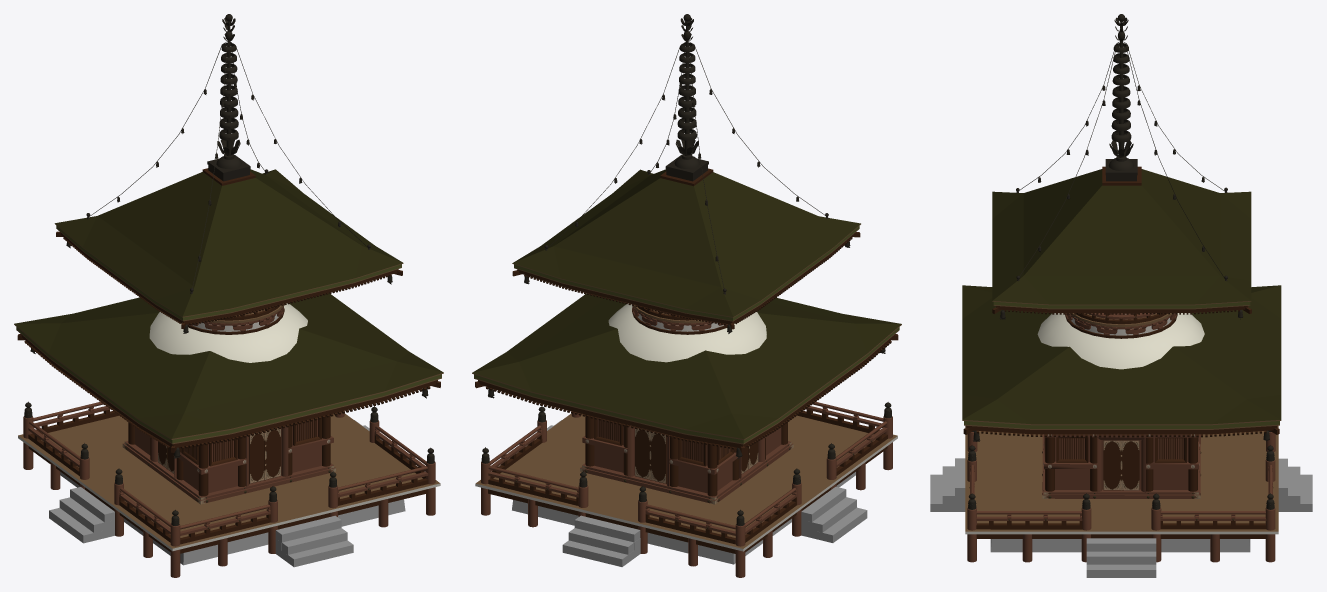
Rendered from Pagoda_Tahoto_14m.fbx.
3 renders of one model, left to right at view 1: azimuth 30°, elevation 25°; view 2: azimuth 150°, elevation 25°; view 3: azimuth 270°, elevation 25°, orthographic.
Visible parts, largest first — view 1: Base_LOD0, Roof1_LOD0, Roof2_LOD0, Wall1_LOD0, Wall2_LOD0, Sorin_LOD0, Chainbell_LOD0, Door_SR_LOD0, Door_SL_LOD0; view 2: Roof1_LOD0, Base_LOD0, Roof2_LOD0, Wall1_LOD0, Wall2_LOD0, Sorin_LOD0, Chainbell_LOD0, Door_NR_LOD0, Door_NL_LOD0; view 3: Roof1_LOD0, Roof2_LOD0, Base_LOD0, Wall1_LOD0, Wall2_LOD0, Sorin_LOD0, Chainbell_LOD0, Door_ER_LOD0, Door_EL_LOD0.
Boxes of the visible parts, left/top/right/bottom form: Base_LOD0: left=18, top=401, right=440, bottom=577; Roof1_LOD0: left=14, top=293, right=443, bottom=449; Roof2_LOD0: left=54, top=168, right=403, bottom=325; Wall1_LOD0: left=17, top=334, right=440, bottom=504; Wall2_LOD0: left=56, top=231, right=402, bottom=362; Sorin_LOD0: left=207, top=14, right=250, bottom=181; Chainbell_LOD0: left=86, top=41, right=370, bottom=293; Door_SR_LOD0: left=264, top=427, right=280, bottom=480; Door_SL_LOD0: left=249, top=431, right=264, bottom=483; Roof1_LOD0: left=472, top=293, right=901, bottom=449; Base_LOD0: left=475, top=402, right=897, bottom=577; Roof2_LOD0: left=512, top=168, right=860, bottom=325; Wall1_LOD0: left=475, top=334, right=898, bottom=504; Wall2_LOD0: left=512, top=232, right=860, bottom=362; Sorin_LOD0: left=665, top=14, right=708, bottom=181; Chainbell_LOD0: left=544, top=41, right=828, bottom=294; Door_NR_LOD0: left=649, top=430, right=666, bottom=483; Door_NL_LOD0: left=635, top=427, right=649, bottom=479; Roof1_LOD0: left=962, top=285, right=1281, bottom=437; Roof2_LOD0: left=992, top=166, right=1251, bottom=314; Base_LOD0: left=930, top=425, right=1312, bottom=577; Wall1_LOD0: left=963, top=427, right=1279, bottom=498; Wall2_LOD0: left=992, top=307, right=1251, bottom=369; Sorin_LOD0: left=1105, top=14, right=1137, bottom=181; Chainbell_LOD0: left=1016, top=41, right=1227, bottom=281; Door_ER_LOD0: left=1120, top=440, right=1139, bottom=490; Door_EL_LOD0: left=1103, top=440, right=1120, bottom=490.
Size of what is drawn, in the model's own units: 10.76 by 15 by 10.77.
